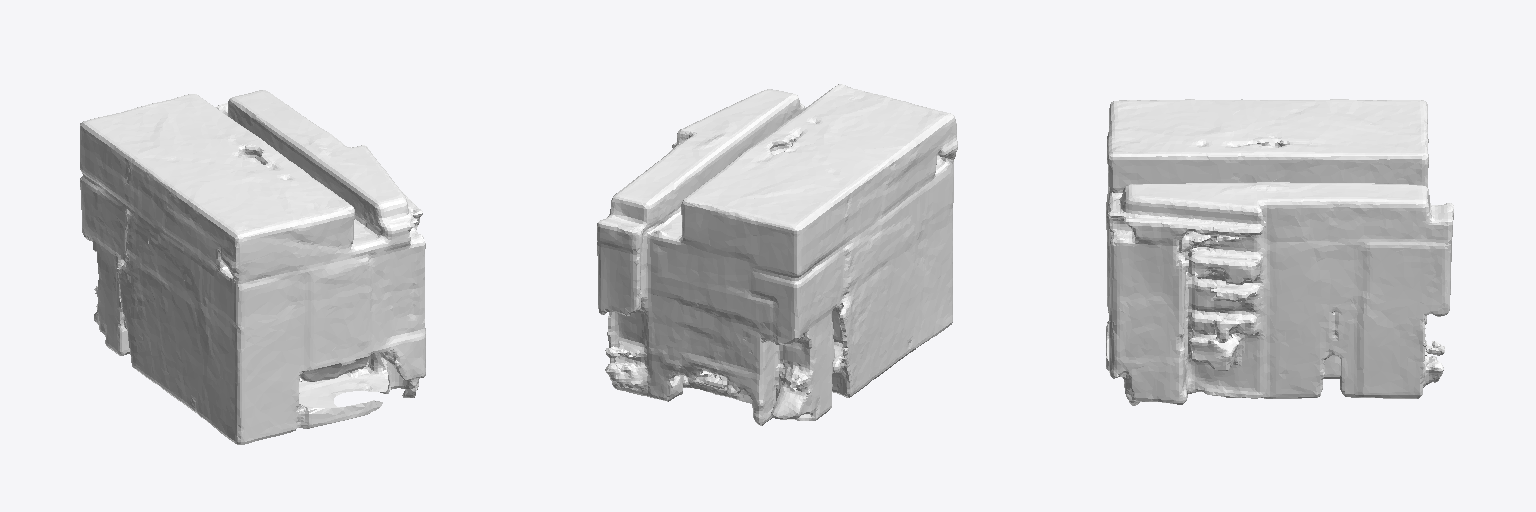
File: room.obj
3 renders of one model, left to right at view 1: azimuth 30°, elevation 25°; view 2: azimuth 150°, elevation 25°; view 3: azimuth 270°, elevation 25°, orthographic.
Parts seen in each view (by area): view 1: meshes[0], meshes[1]; view 2: meshes[0], meshes[1]; view 3: meshes[0], meshes[1].
Part boxes in pixels (x1,y1,x2,y2): meshes[0]: (80,90,425,444); meshes[1]: (80,99,425,419); meshes[0]: (597,84,956,403); meshes[1]: (597,93,957,425); meshes[0]: (1106,99,1450,404); meshes[1]: (1107,99,1453,405).
Size of the model in its own units: 2.67 by 2.59 by 3.74.